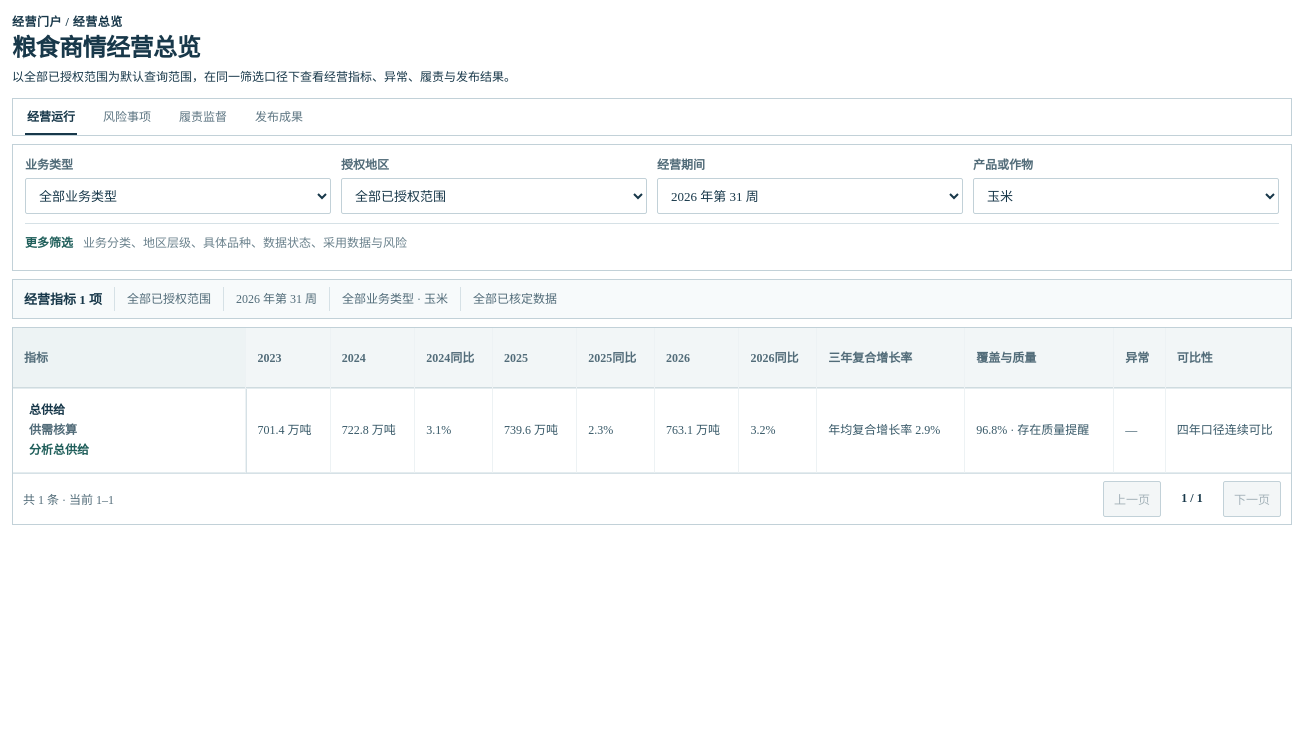
it: enterprise portal workspaces › renders the mature title-view-filter-summary-ledger hierarchy without a card wall
Expected: the dropdown labelled "授权地区" shows "全部已授权范围", [341, 178, 647, 214]
Expected: the tab "经营运行" is shown, [25, 99, 77, 135]
Step 1. Click the text "更多筛选" → [49, 242], box [25, 233, 73, 251]
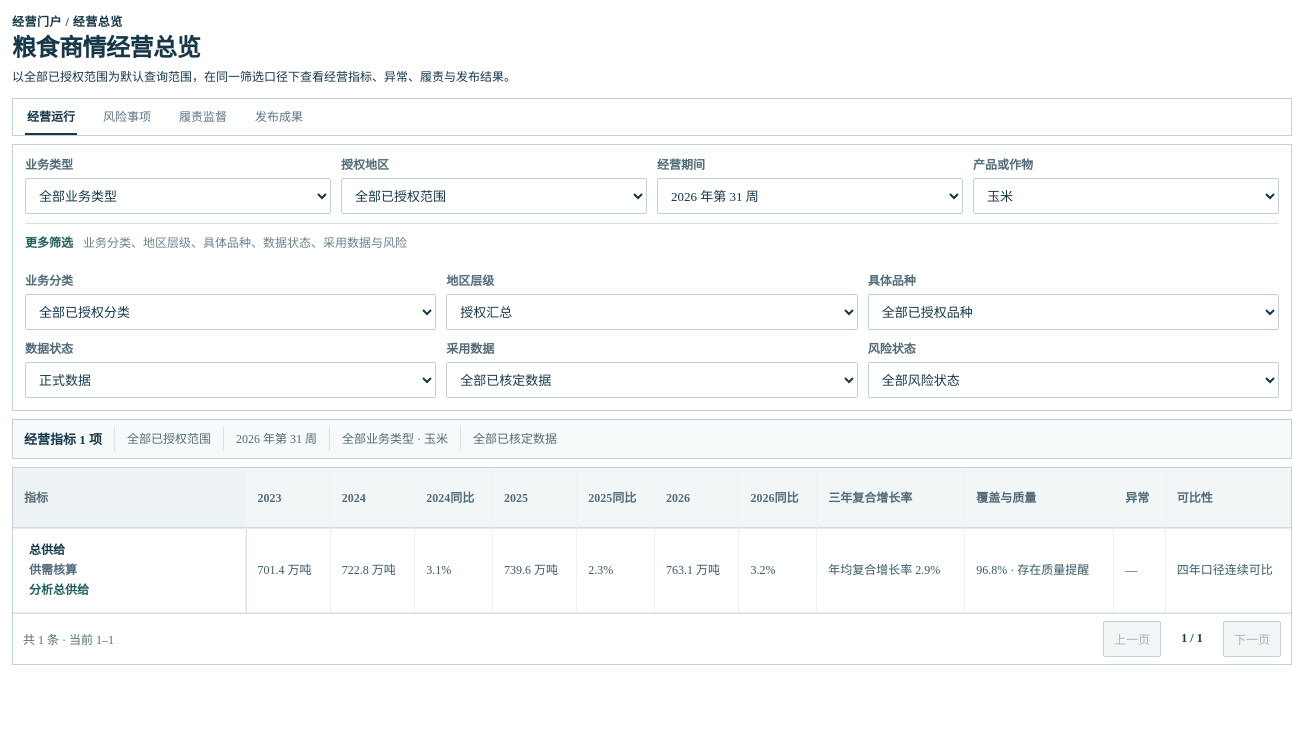
Expected: the column heading "2023" is shown, [246, 468, 331, 529]
Now the dropdown labelled "业务分类" is shown, box [25, 294, 436, 330]
